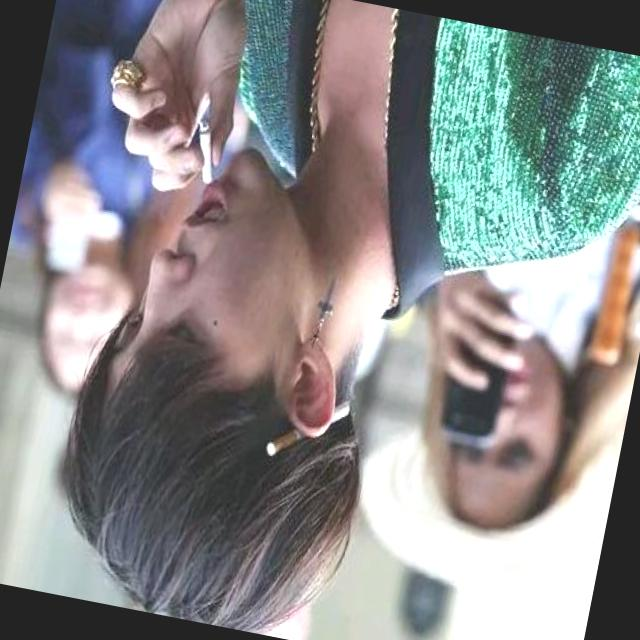cigarette: (186, 114, 227, 188)
